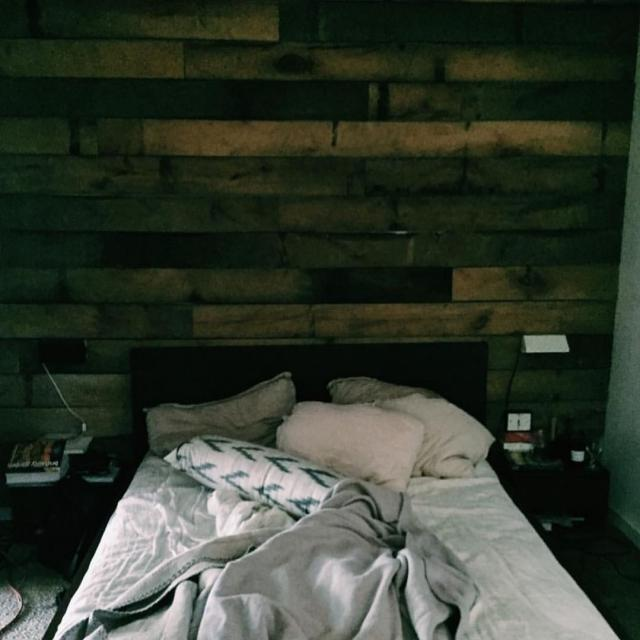bed: (82, 372, 614, 640)
